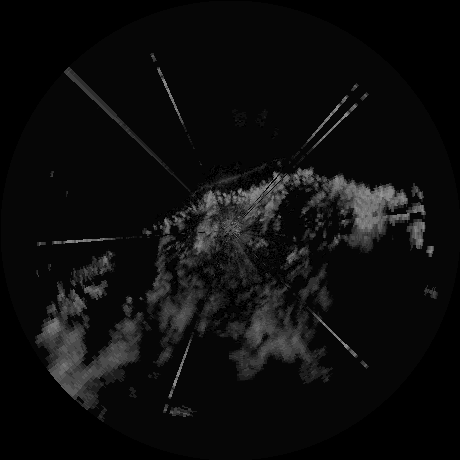frontgust: (192, 162, 278, 196)
